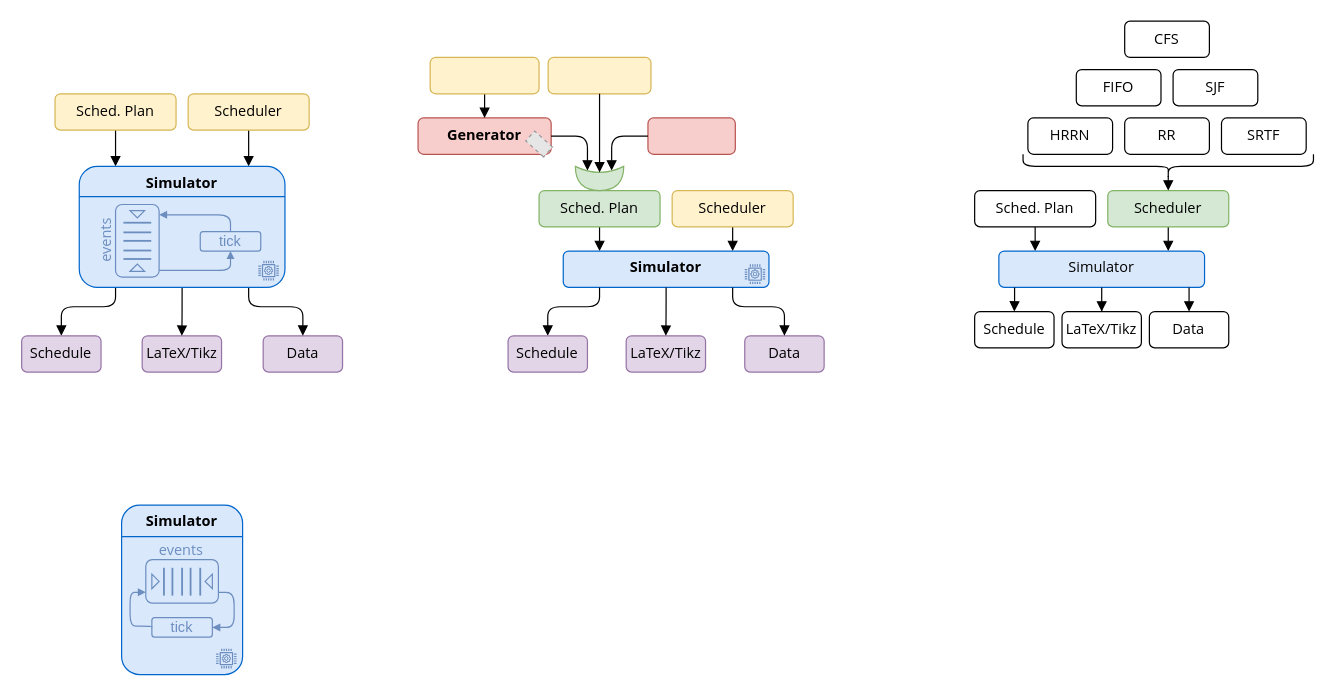
This 1335x696 diagram has some shape labels left out. Grey dashed boxes stand in for pictures. Here are the shapes that lost their labels. From the top down, the centre of each, then its label:
the point at 484,75: Value Ranges
the point at 599,75: Custom Plan
the point at 691,135: Fixtures
